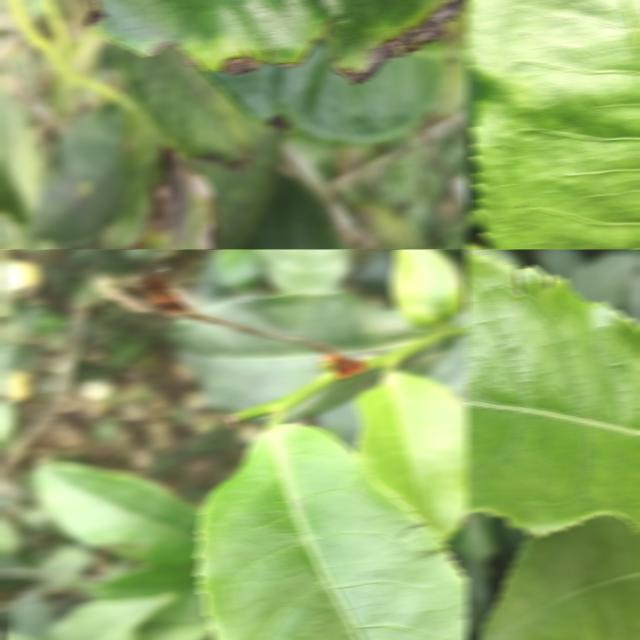Leaf: (197, 418, 468, 640), (466, 250, 640, 535), (466, 0, 640, 249), (205, 36, 445, 143), (478, 515, 640, 640), (355, 370, 468, 540), (31, 460, 202, 561), (115, 44, 252, 164), (206, 291, 427, 357), (170, 318, 322, 411), (29, 104, 126, 245), (125, 148, 214, 249), (237, 174, 347, 249), (0, 87, 44, 223), (47, 593, 174, 640), (389, 249, 465, 327), (252, 249, 355, 293), (466, 558, 493, 635), (288, 388, 351, 417)
